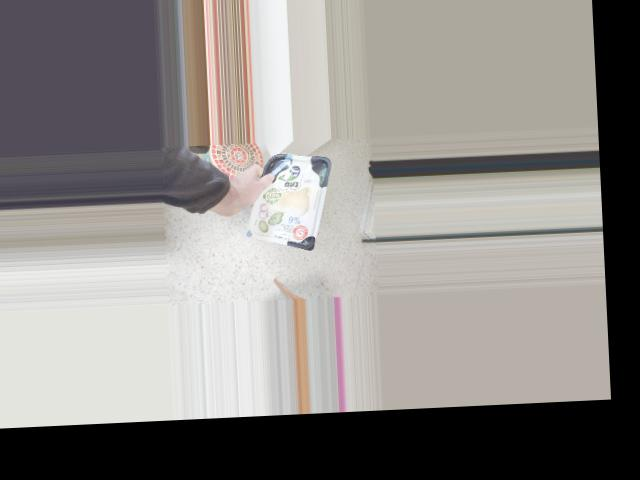cheese: (243, 150, 335, 248)
